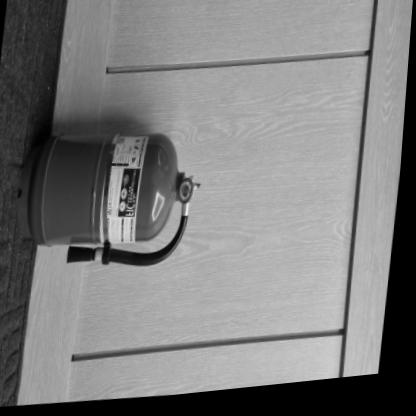FE: (14, 122, 203, 281)
